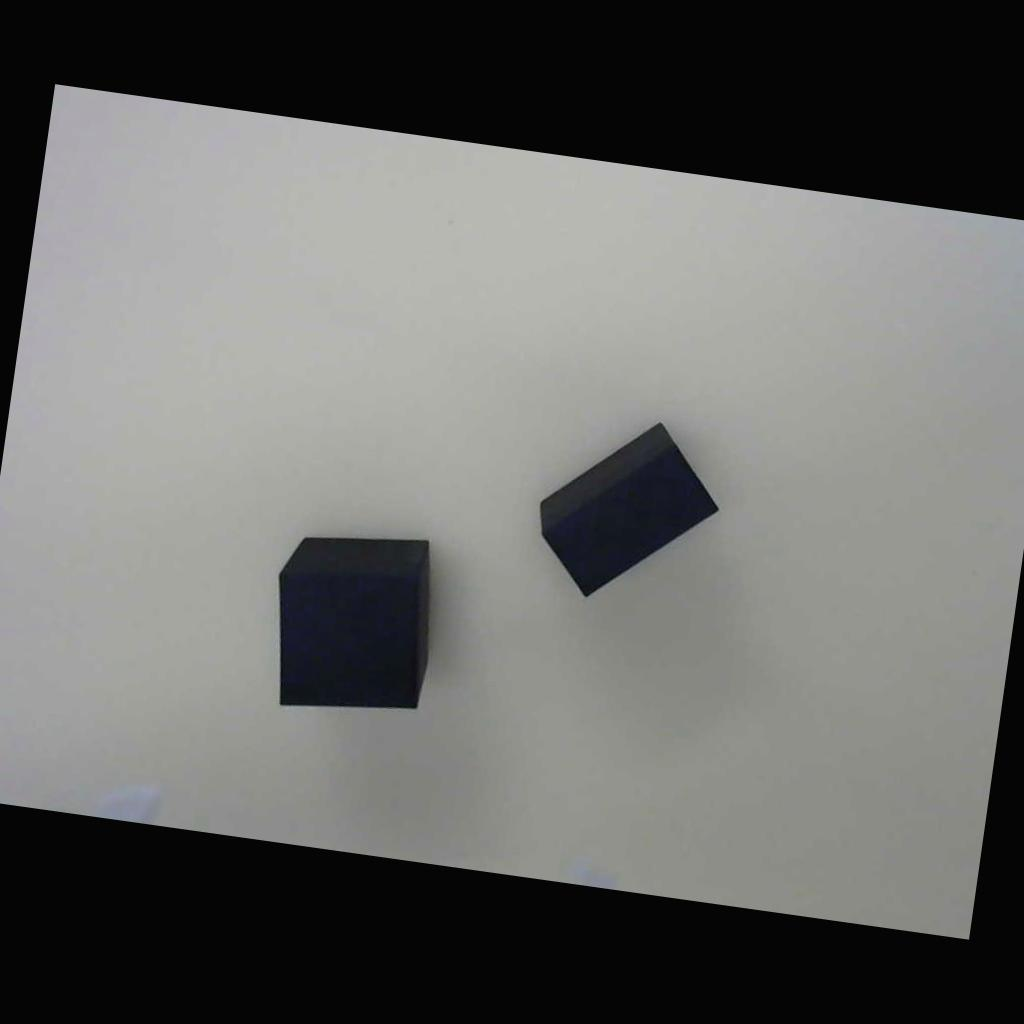rectangle: (511, 407, 735, 617)
square: (260, 514, 449, 723)
